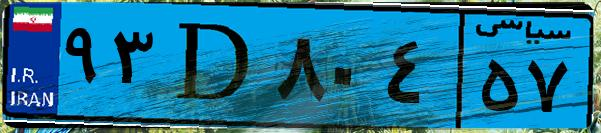0: (330, 28, 385, 110)
3: (110, 28, 158, 98)
4: (385, 28, 445, 110)
5: (475, 38, 525, 113)
7: (525, 38, 570, 115)
8: (270, 28, 330, 110)
9: (57, 26, 110, 100)
D: (158, 12, 270, 120)
